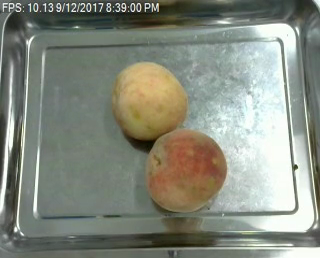Peach: (146, 127, 227, 212), (112, 60, 188, 141)
